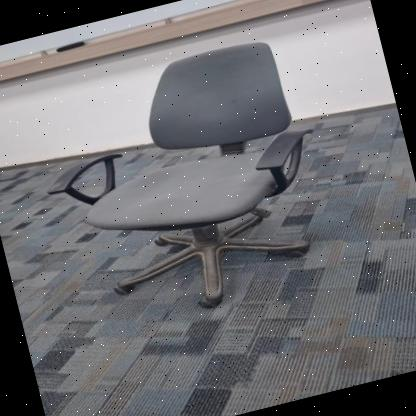chair: (22, 25, 354, 342)
